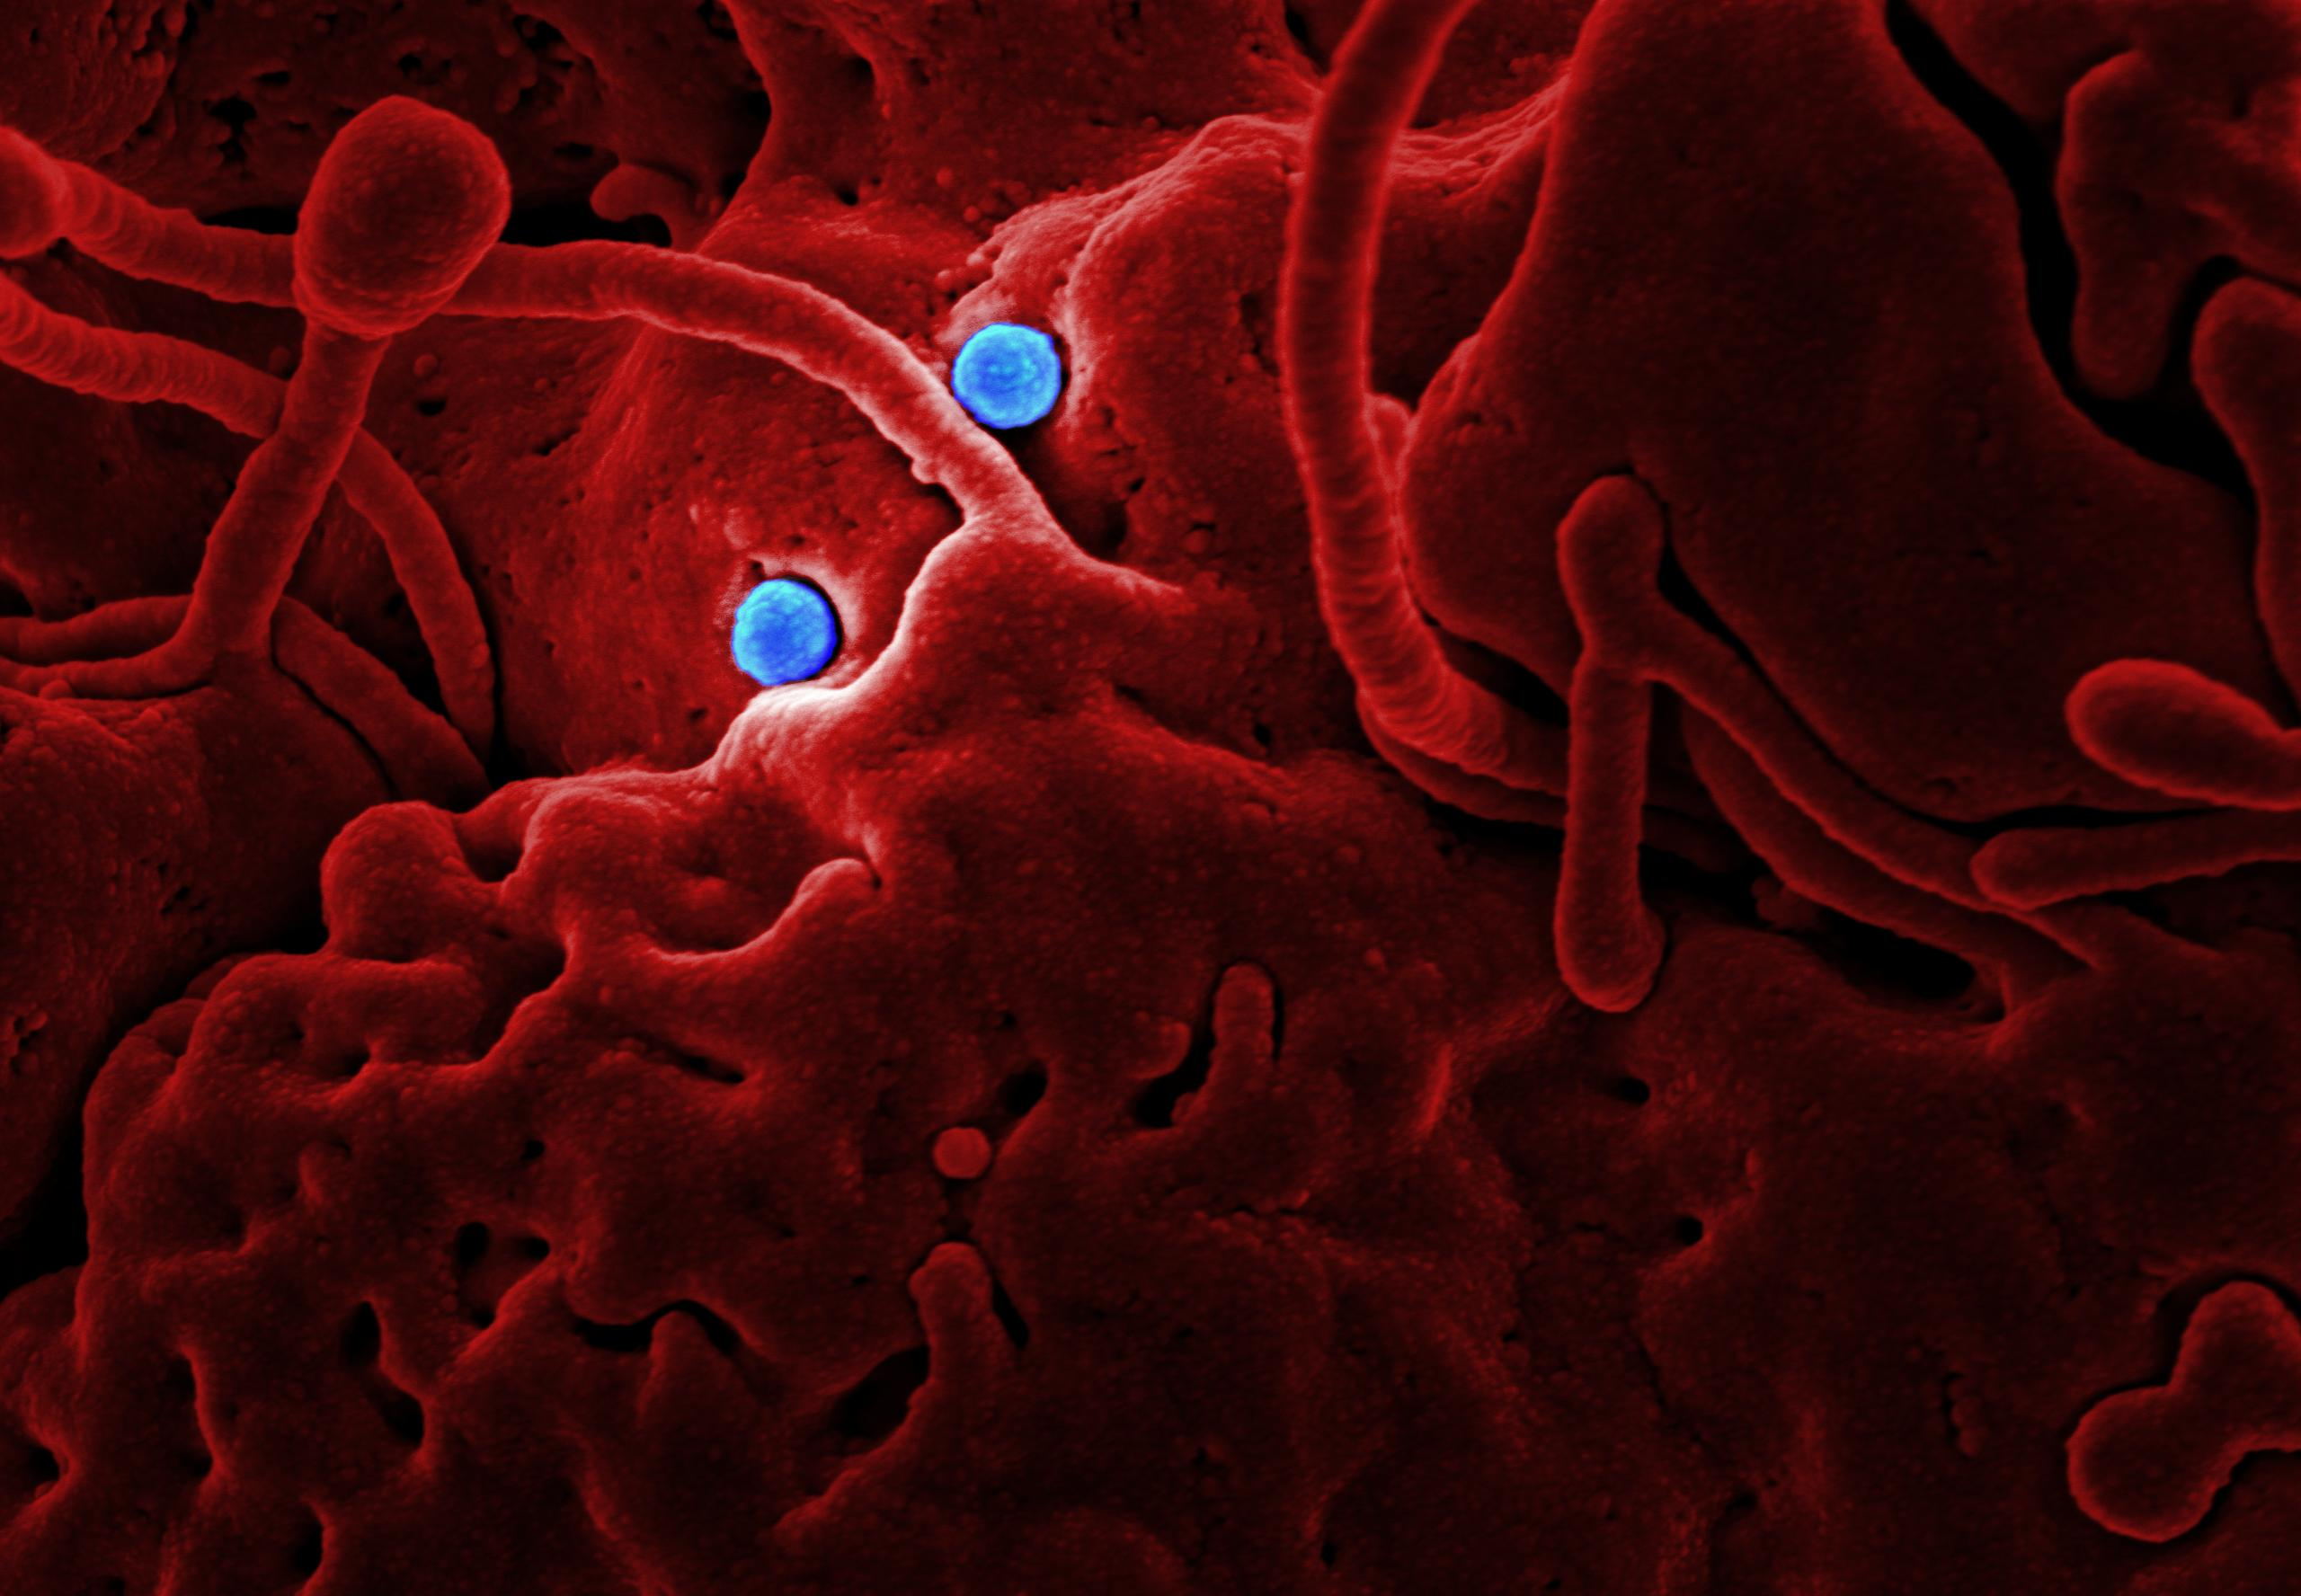COVID19: (629, 252, 1093, 697)
